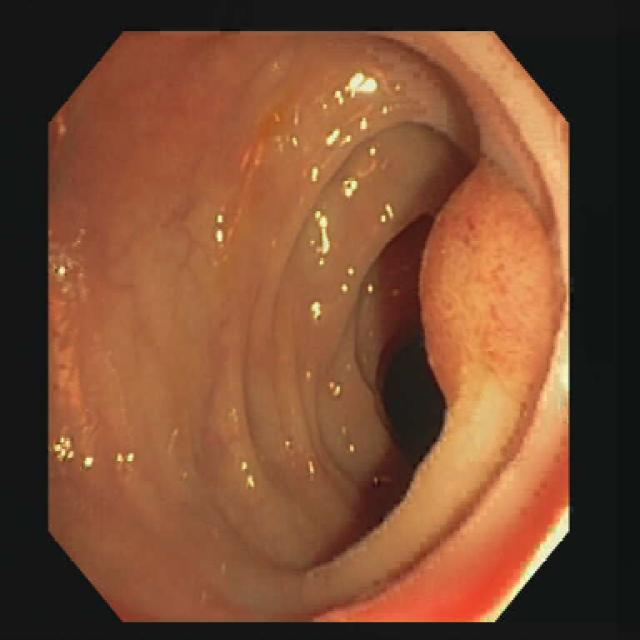tumor: (408, 162, 558, 544)
